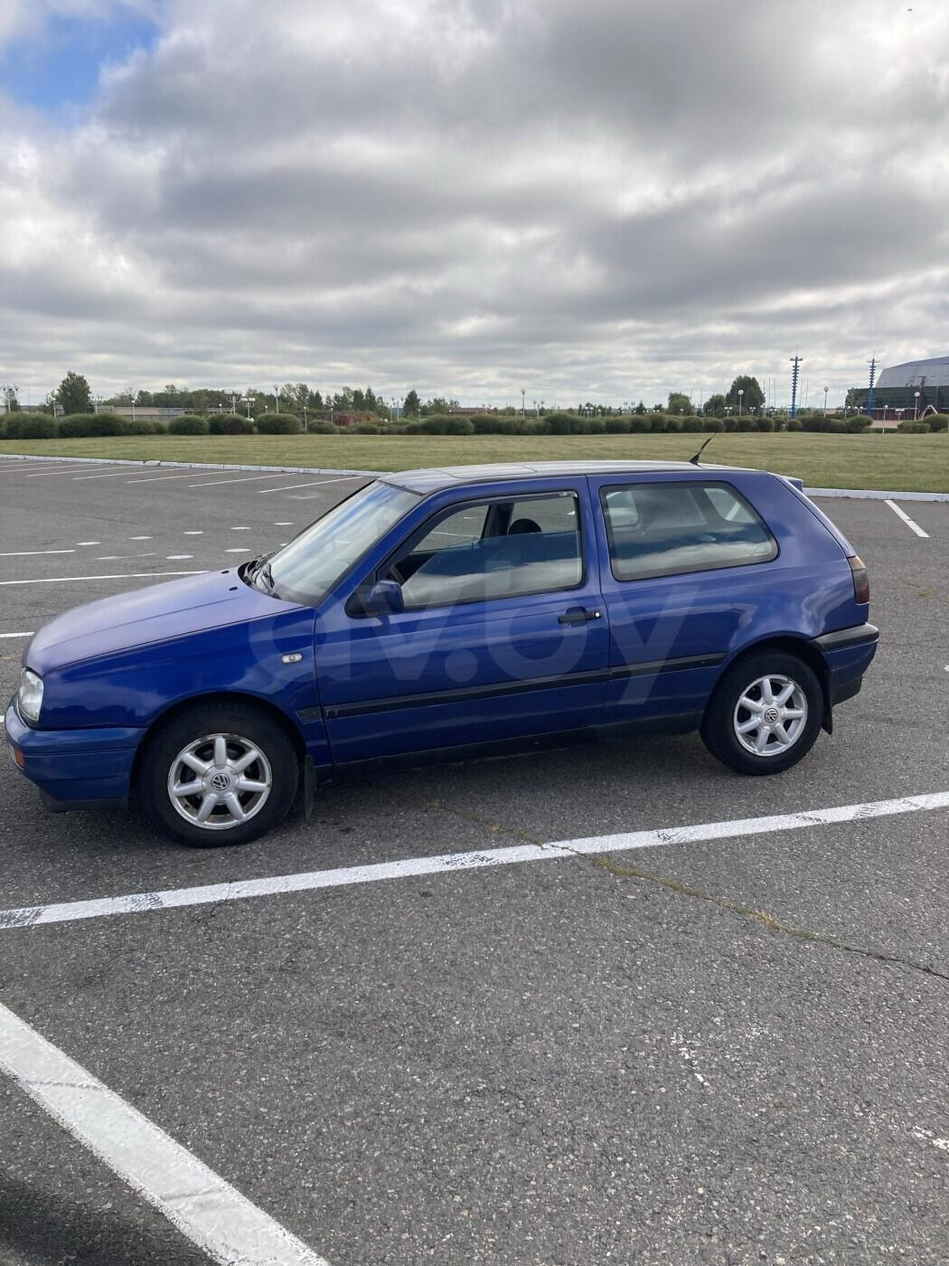Golf_1991-2000: (16, 464, 876, 839)
